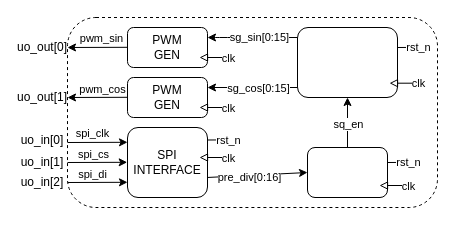
The diagram is 455 pixels wide and 225 high, and some of its shapes have lost their labels. Each missing label, with the centre of its shape:
PRESCALER: point (347, 172)
SIGNAL GENERATOR: point (347, 62)
